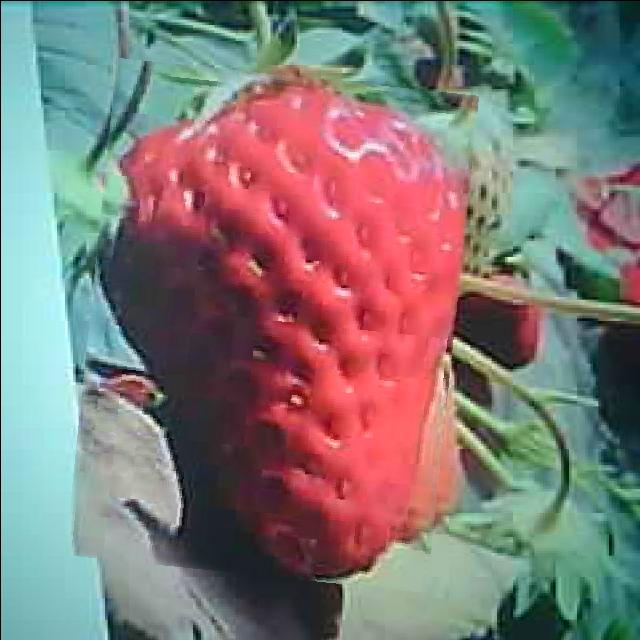strawberry: (77, 66, 466, 584)
